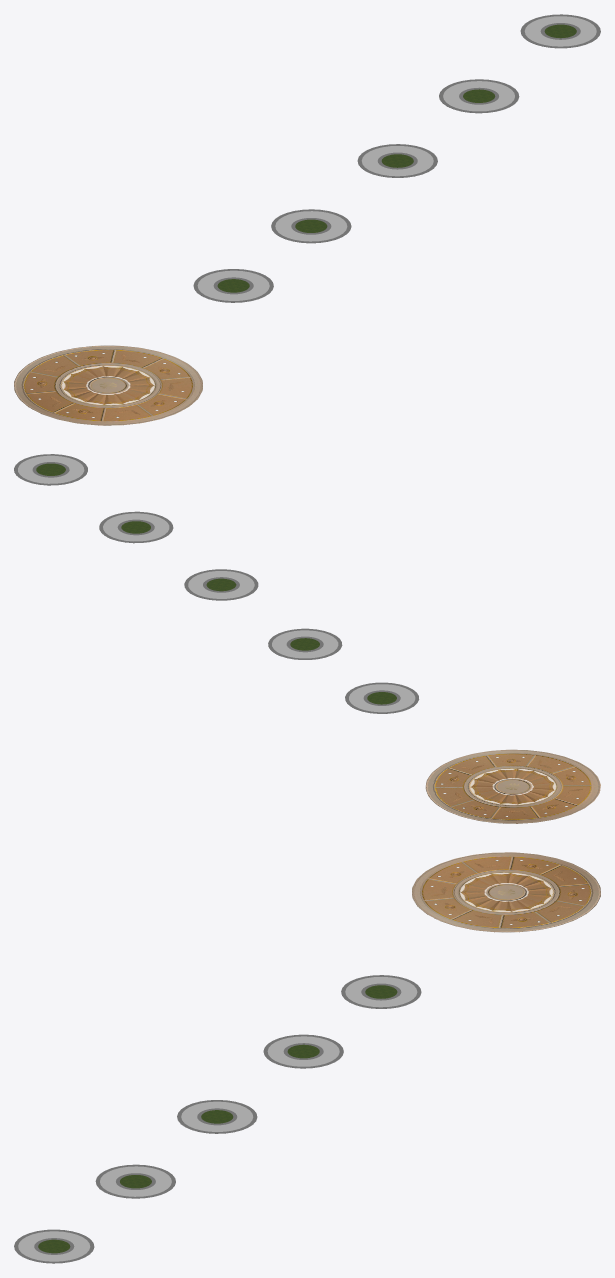
File: xiaoqusheshi1.gltf
3 views of the same model, one above another, from view 1: azimuth 90°, elevation 25°; view 2: azimuth 150°, elevation 25°; view 3: azimuth 270°, elevation 25° (orthographic). The views are drawn at different scales.
Visible parts, largest first — view 1: dx23, Obj3d66-602692-201-421, Obj3d66-602692-201-420, Obj3d66-602692-201-418, Obj3d66-602692-201-417, Obj3d66-602692-201-419, Obj3d66-602692-200-540, Obj3d66-602692-200-537, Obj3d66-602692-200-536, Obj3d66-602692-200-538, Obj3d66-602692-200-539; view 2: dx23, Obj3d66-602692-201-421, Obj3d66-602692-201-420, Obj3d66-602692-201-417, Obj3d66-602692-201-418, Obj3d66-602692-201-419, Obj3d66-602692-200-540, Obj3d66-602692-200-539, Obj3d66-602692-200-536, Obj3d66-602692-200-538, Obj3d66-602692-200-537; view 3: dx23, Obj3d66-602692-201-421, Obj3d66-602692-201-418, Obj3d66-602692-201-420, Obj3d66-602692-201-419, Obj3d66-602692-201-417, Obj3d66-602692-200-540, Obj3d66-602692-200-537, Obj3d66-602692-200-536, Obj3d66-602692-200-539, Obj3d66-602692-200-538.
Boxes of the visible parts, x1=… form: dx23: x1=14, y1=345, x2=202, y2=425; Obj3d66-602692-201-421: x1=524, y1=16, x2=596, y2=46; Obj3d66-602692-201-420: x1=443, y1=81, x2=514, y2=111; Obj3d66-602692-201-418: x1=275, y1=211, x2=347, y2=241; Obj3d66-602692-201-417: x1=197, y1=270, x2=269, y2=300; Obj3d66-602692-201-419: x1=361, y1=146, x2=433, y2=176; Obj3d66-602692-200-540: x1=520, y1=14, x2=600, y2=48; Obj3d66-602692-200-537: x1=271, y1=209, x2=351, y2=243; Obj3d66-602692-200-536: x1=193, y1=269, x2=273, y2=302; Obj3d66-602692-200-538: x1=357, y1=144, x2=437, y2=177; Obj3d66-602692-200-539: x1=439, y1=79, x2=519, y2=113; dx23: x1=425, y1=749, x2=600, y2=823; Obj3d66-602692-201-421: x1=18, y1=455, x2=84, y2=483; Obj3d66-602692-201-420: x1=103, y1=513, x2=169, y2=541; Obj3d66-602692-201-417: x1=349, y1=684, x2=415, y2=712; Obj3d66-602692-201-418: x1=272, y1=630, x2=338, y2=658; Obj3d66-602692-201-419: x1=188, y1=571, x2=254, y2=598; Obj3d66-602692-200-540: x1=14, y1=454, x2=87, y2=485; Obj3d66-602692-200-539: x1=99, y1=511, x2=173, y2=543; Obj3d66-602692-200-536: x1=345, y1=682, x2=419, y2=713; Obj3d66-602692-200-538: x1=184, y1=569, x2=258, y2=600; Obj3d66-602692-200-537: x1=268, y1=628, x2=342, y2=659; dx23: x1=412, y1=852, x2=600, y2=932; Obj3d66-602692-201-421: x1=18, y1=1231, x2=90, y2=1261; Obj3d66-602692-201-418: x1=267, y1=1036, x2=339, y2=1066; Obj3d66-602692-201-420: x1=100, y1=1166, x2=171, y2=1196; Obj3d66-602692-201-419: x1=181, y1=1101, x2=253, y2=1131; Obj3d66-602692-201-417: x1=345, y1=977, x2=417, y2=1007; Obj3d66-602692-200-540: x1=14, y1=1229, x2=94, y2=1263; Obj3d66-602692-200-537: x1=263, y1=1034, x2=343, y2=1068; Obj3d66-602692-200-536: x1=341, y1=975, x2=421, y2=1008; Obj3d66-602692-200-539: x1=95, y1=1164, x2=175, y2=1198; Obj3d66-602692-200-538: x1=177, y1=1100, x2=257, y2=1133.
Bounding box in the file's own units: 1311 × 0.1 × 791.
Materials: 16 (6 with a texture image).
